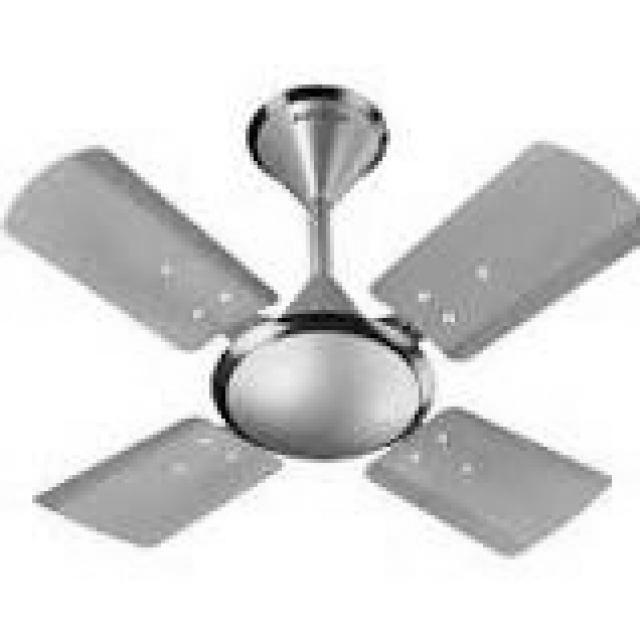fan: (3, 83, 622, 565)
